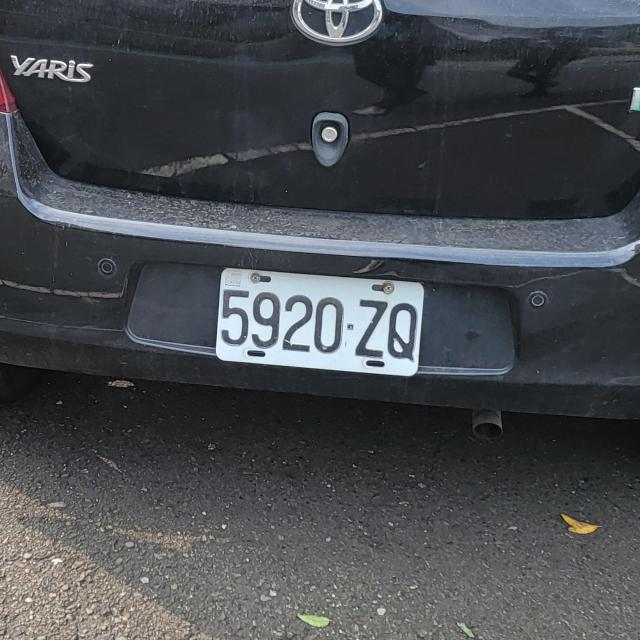W: (214, 265, 428, 378)
